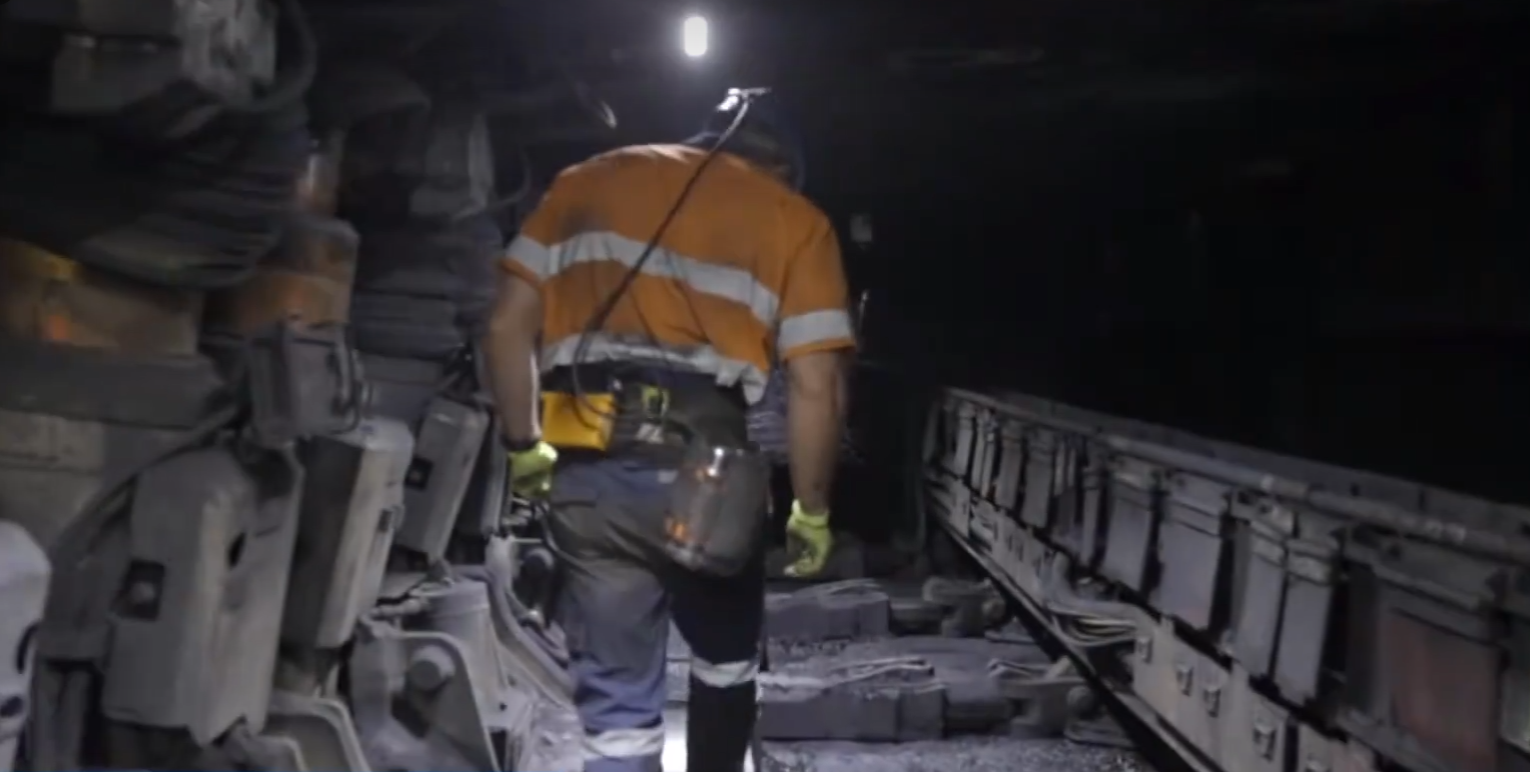device: (483, 82, 850, 767)
